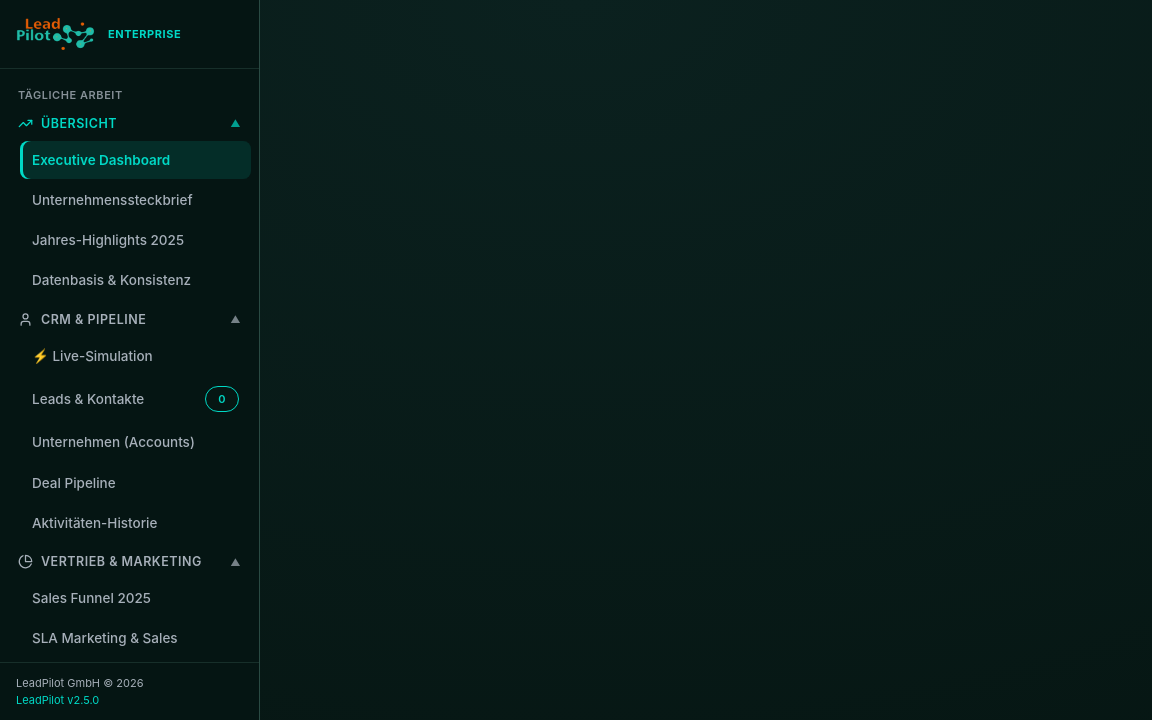
Test: Sidebar (branch) › schließt eine offene Kategorie und versteckt ihre Einträge
The width and height of the screenshot is (1152, 720).
Expected: the text "Leads & Kontakte" is shown, [32, 391, 144, 407]
Click the button "CRM & Pipeline ▲" at (130, 319), box [8, 304, 251, 334]
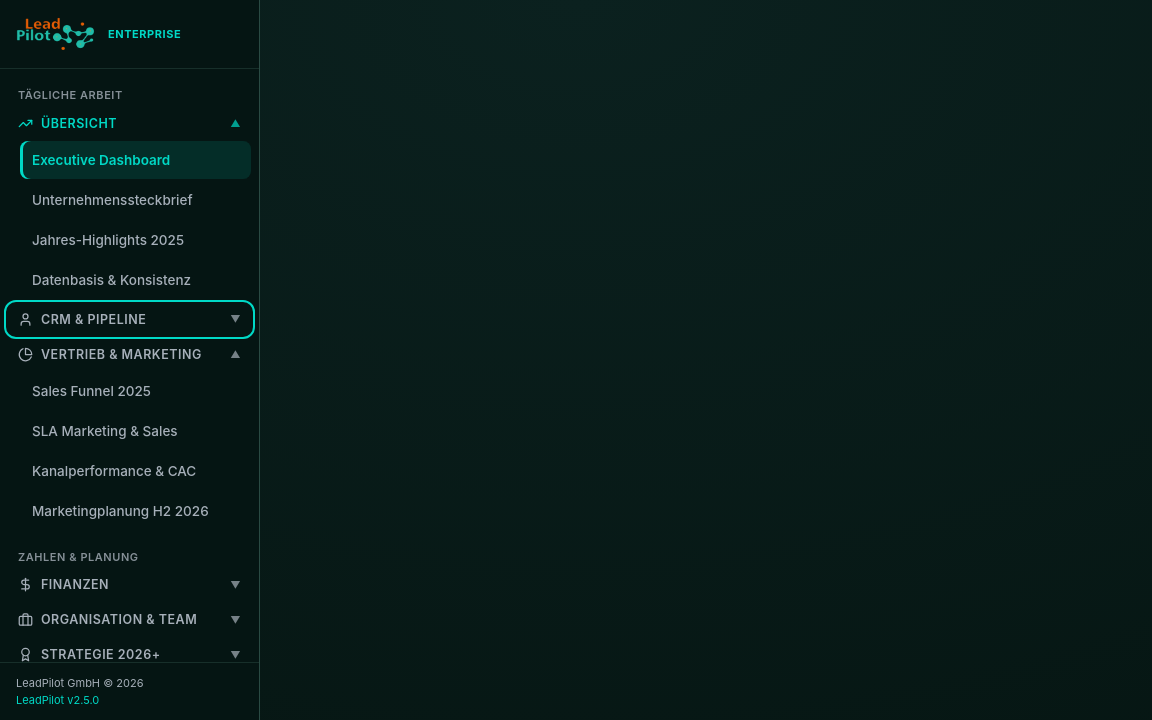
Now the link "Leads & Kontakte" is gone
